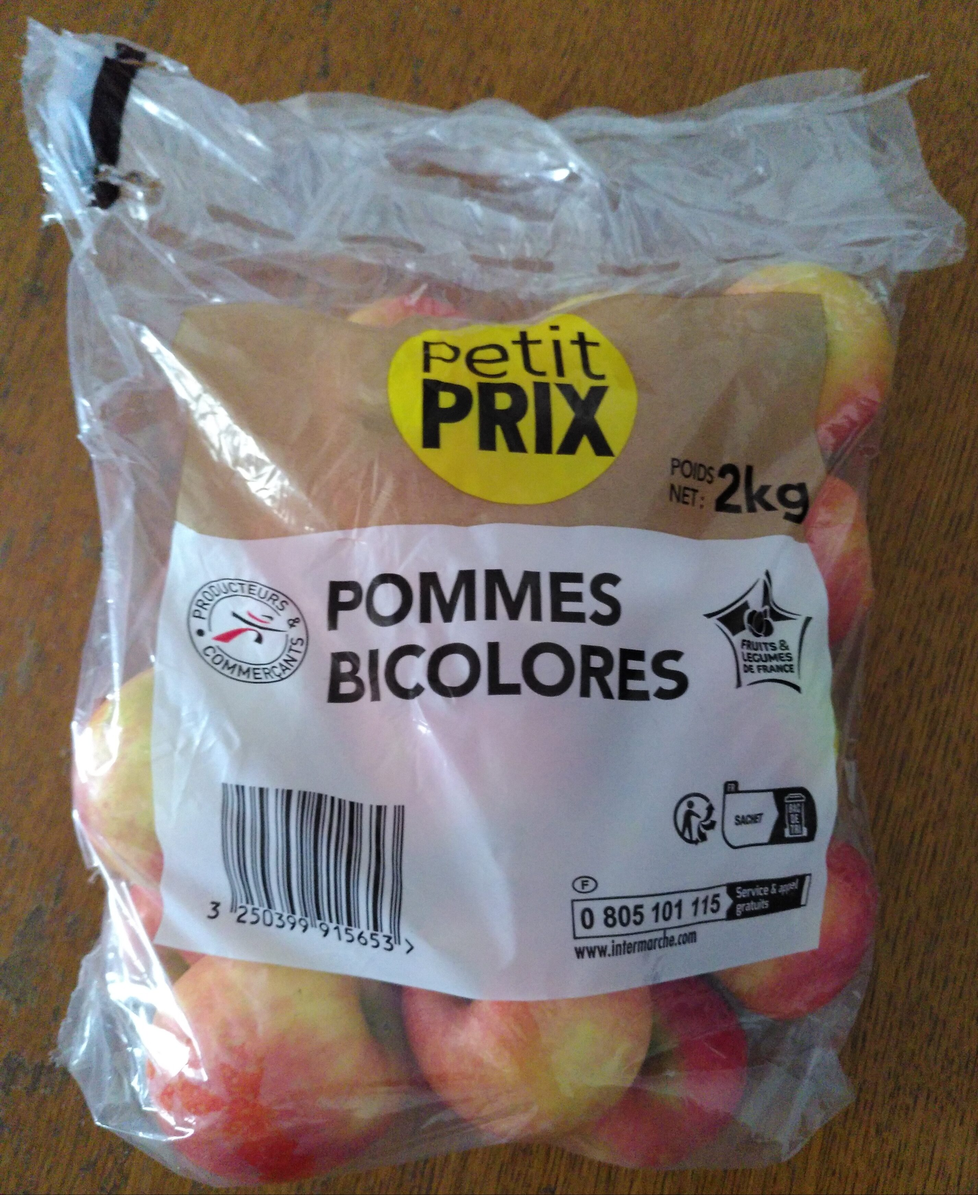Pomme bicolores: (49, 60, 929, 1135)
